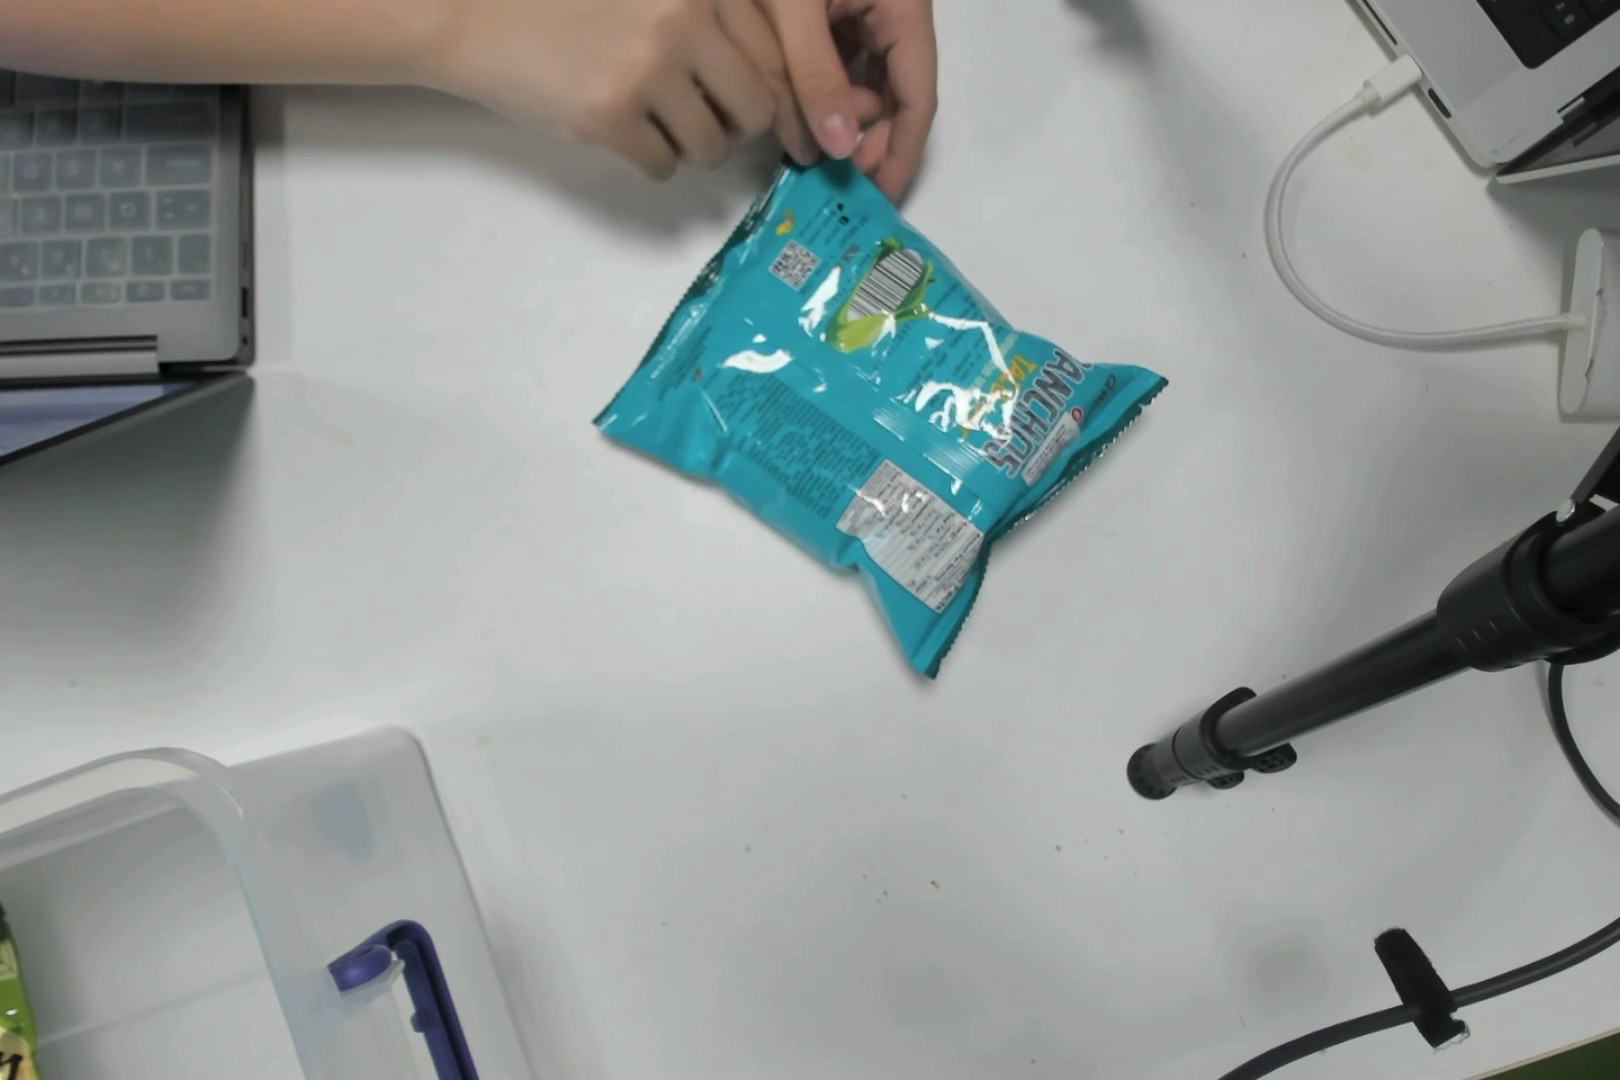PotatochipsKeropok_1-99g_NonHalal_NonHealthy: (689, 192, 1088, 636)
